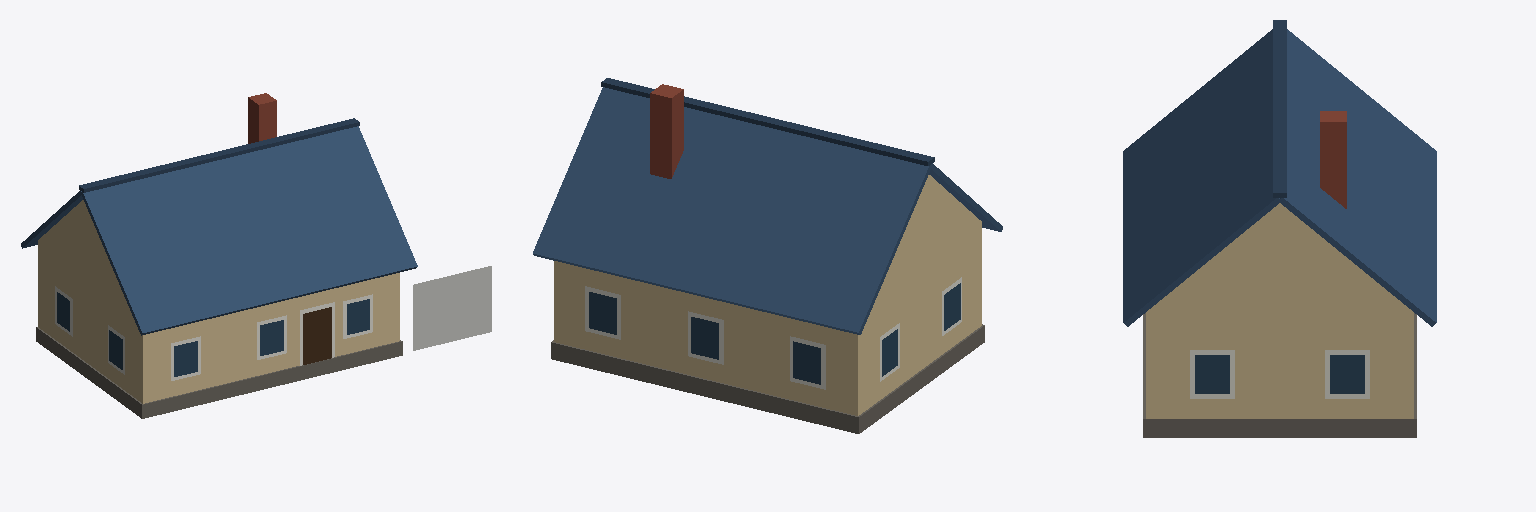
The robot description file, URDF, robot "house_03":
<?xml version="1.0" encoding="utf-8"?>
<!-- Generated by tools/generate_assets.py -->
<robot name="house_03">
  <link name="base_link">
    <inertial>
      <mass value="0" />
      <inertia ixx="0" ixy="0" ixz="0" iyy="0" iyz="0" izz="0" />
    </inertial>
    <visual name="part_0">
      <geometry><mesh filename="meshes/house_03_v0.obj" /></geometry>
      <material name="house_03_0"><color rgba="0.45 0.43 0.4 1" /></material>
    </visual>
    <visual name="part_1">
      <geometry><mesh filename="meshes/house_03_v1.obj" /></geometry>
      <material name="house_03_1"><color rgba="0.84 0.76 0.6 1" /></material>
    </visual>
    <visual name="part_2">
      <geometry><mesh filename="meshes/house_03_v2.obj" /></geometry>
      <material name="house_03_2"><color rgba="0.25 0.35 0.46 1" /></material>
    </visual>
    <visual name="part_3">
      <geometry><mesh filename="meshes/house_03_v3.obj" /></geometry>
      <material name="house_03_3"><color rgba="0.2 0.28 0.368 1" /></material>
    </visual>
    <visual name="part_4">
      <geometry><mesh filename="meshes/house_03_v4.obj" /></geometry>
      <material name="house_03_4"><color rgba="0.55 0.3 0.24 1" /></material>
    </visual>
    <visual name="part_5">
      <geometry><mesh filename="meshes/house_03_v5.obj" /></geometry>
      <material name="house_03_5"><color rgba="0.3 0.22 0.15 1" /></material>
    </visual>
    <visual name="part_6">
      <geometry><mesh filename="meshes/house_03_v6.obj" /></geometry>
      <material name="house_03_6"><color rgba="0.9 0.89 0.85 1" /></material>
    </visual>
    <visual name="part_7">
      <geometry><mesh filename="meshes/house_03_v7.obj" /></geometry>
      <material name="house_03_7"><color rgba="0.2 0.3 0.38 1" /></material>
    </visual>
    <visual name="part_8">
      <geometry><mesh filename="meshes/house_03_v8.obj" /></geometry>
      <material name="house_03_8"><color rgba="0.72 0.66 0.56 1" /></material>
    </visual>
    <visual name="part_9">
      <geometry><mesh filename="meshes/house_03_v9.obj" /></geometry>
      <material name="house_03_9"><color rgba="0.32 0.33 0.35 1" /></material>
    </visual>
    <visual name="part_10">
      <geometry><mesh filename="meshes/house_03_v10.obj" /></geometry>
      <material name="house_03_10"><color rgba="0.8 0.8 0.78 1" /></material>
    </visual>
    <collision name="hull_0">
      <geometry><mesh filename="meshes/house_03_c0.obj" /></geometry>
    </collision>
    <collision name="hull_1">
      <geometry><mesh filename="meshes/house_03_c1.obj" /></geometry>
    </collision>
    <collision name="hull_2">
      <geometry><mesh filename="meshes/house_03_c2.obj" /></geometry>
    </collision>
    <collision name="hull_3">
      <geometry><mesh filename="meshes/house_03_c3.obj" /></geometry>
    </collision>
    <collision name="hull_4">
      <geometry><mesh filename="meshes/house_03_c4.obj" /></geometry>
    </collision>
    <collision name="hull_5">
      <geometry><mesh filename="meshes/house_03_c5.obj" /></geometry>
    </collision>
  </link>
</robot>

--- What the picture shows (computed from the rendered views, not written in the file) ---
Views: 3 orthographic renders of the robot side by side, from view 1: azimuth 30°, elevation 25°; view 2: azimuth 150°, elevation 25°; view 3: azimuth 270°, elevation 25°.
Robot: house_03 — 1 links, 0 joints (none); root link base_link; default pose: all joints at 0.
Visible links, largest first — view 1: base_link; view 2: base_link; view 3: base_link.
Boxes of the visible links, bbox=[...] form: base_link: bbox=[21, 93, 491, 418]; base_link: bbox=[533, 78, 1002, 433]; base_link: bbox=[1123, 20, 1436, 437].
Size in the robot's own frame: 11.81 by 6.99 by 6.9 metres.
9 mesh visuals loaded from 11 distinct referenced files (9 OBJ); not drawn: 2 (reference not matched to a file when rendering).
